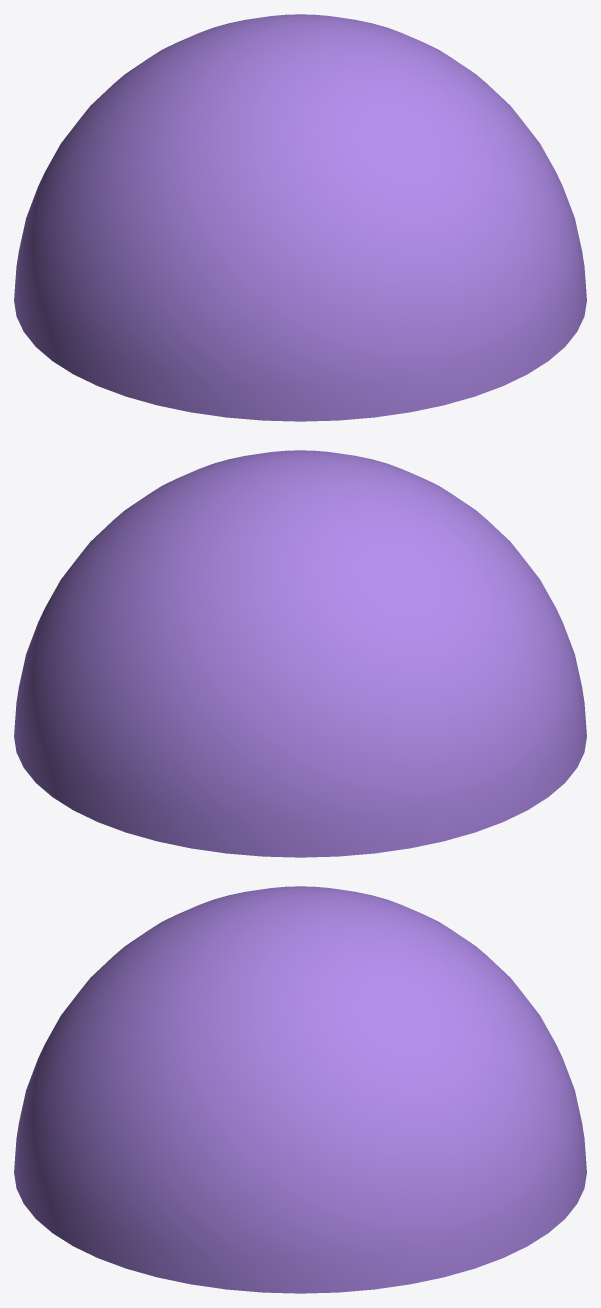
Rendered from fx_dome.glb.
The picture shows the model from 3 angles, top to bottom: view 1: azimuth 30°, elevation 25°; view 2: azimuth 150°, elevation 25°; view 3: azimuth 270°, elevation 25°; orthographic projection.
Visible parts, largest first — view 1: fx_dome; view 2: fx_dome; view 3: fx_dome.
Boxes of the visible parts, <box> form: fx_dome: <box>14,14,586,421</box>; fx_dome: <box>14,450,586,857</box>; fx_dome: <box>14,886,586,1293</box>.
Size of the model in its own units: 2 by 1 by 2.
